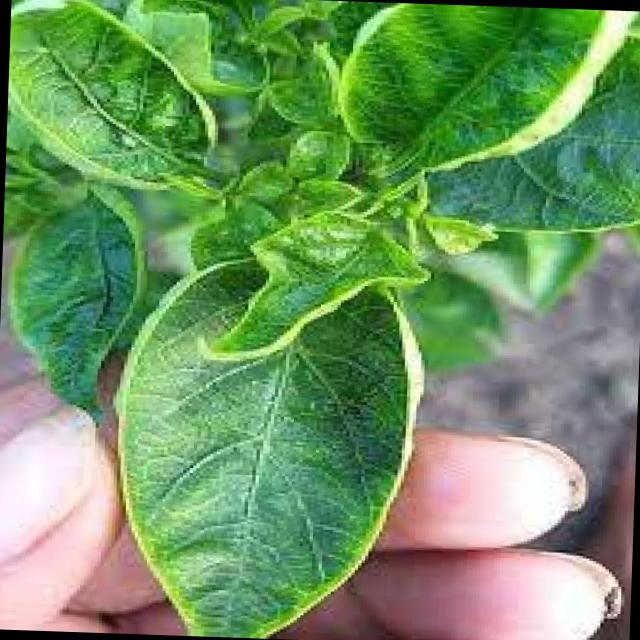Chilli_Leaf_Curl: (0, 0, 640, 640), (101, 247, 428, 640), (328, 0, 640, 189), (4, 0, 225, 193), (0, 182, 149, 419)
